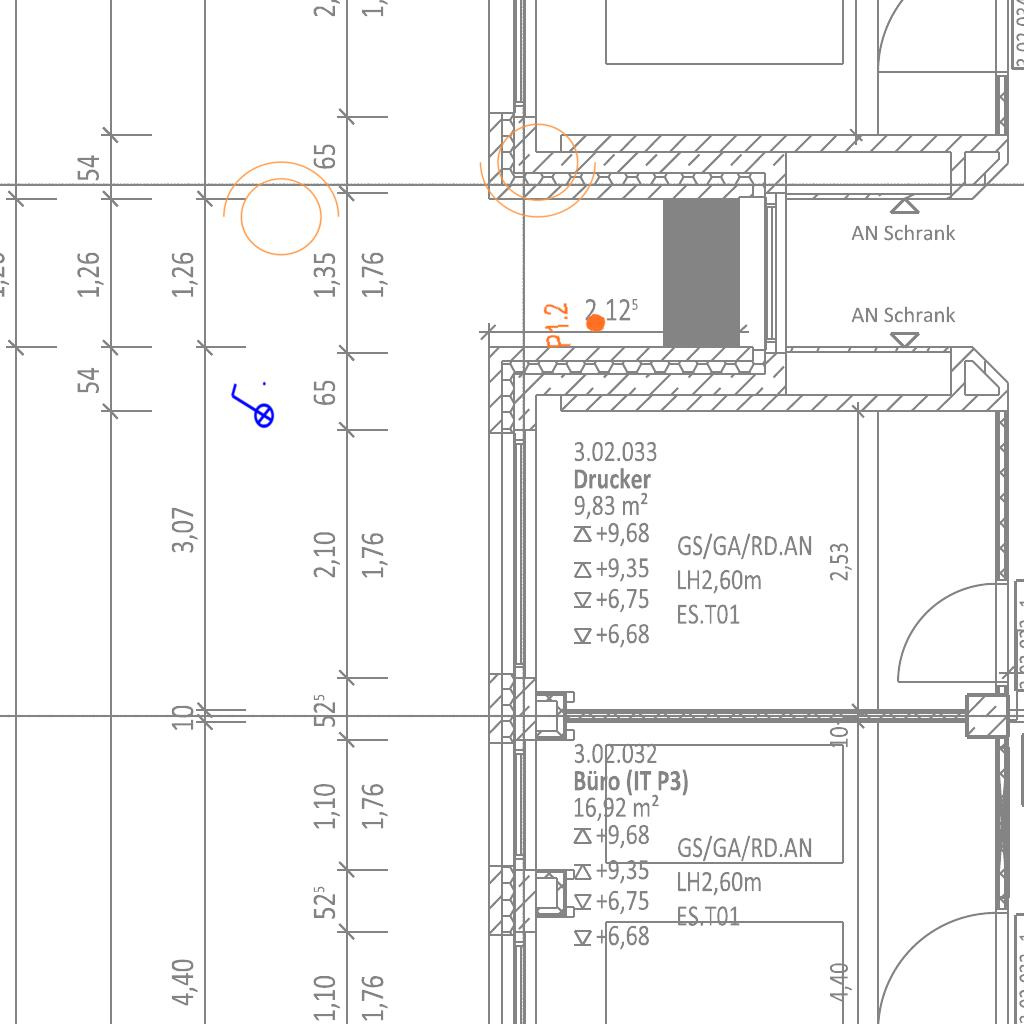Ausschalter_beleuchtet: (227, 379, 275, 435)
Downlight_LED_Einbauleuchten_Flur: (541, 298, 609, 350)
Scheinwerfer_fuer_Alarmbeleuchtung: (475, 111, 607, 223), (212, 156, 344, 268)
